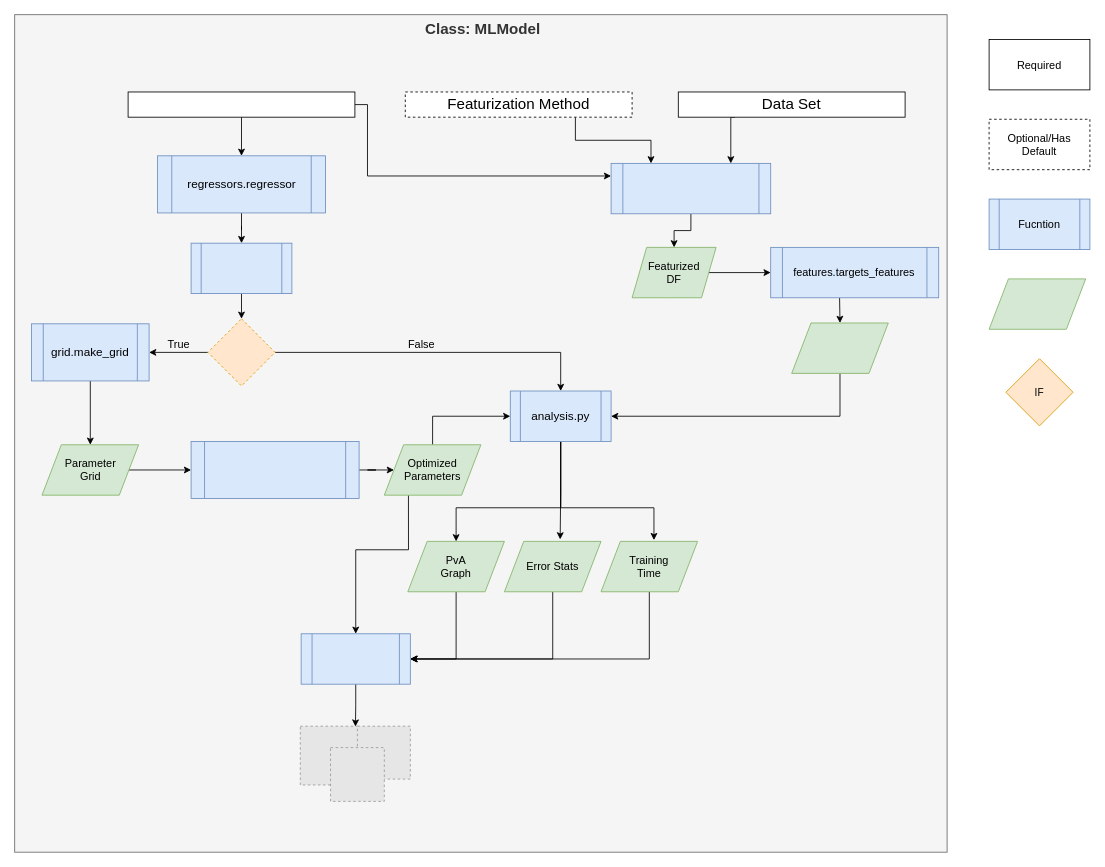
This 1105x867 diagram has some shape labels left out. Grey dashed boxes stand in for pictures. Each missing label, with the centre of its shape:
Algorithm: (241,104)
features.featurization: (690,188)
IF Tune: (241,352)
models.store(): (355,658)
Output/ Result: (1037,303)
regressors.hyperTune(): (274,470)
sklearn Regressor: (241,268)
train, test data: (839,347)
